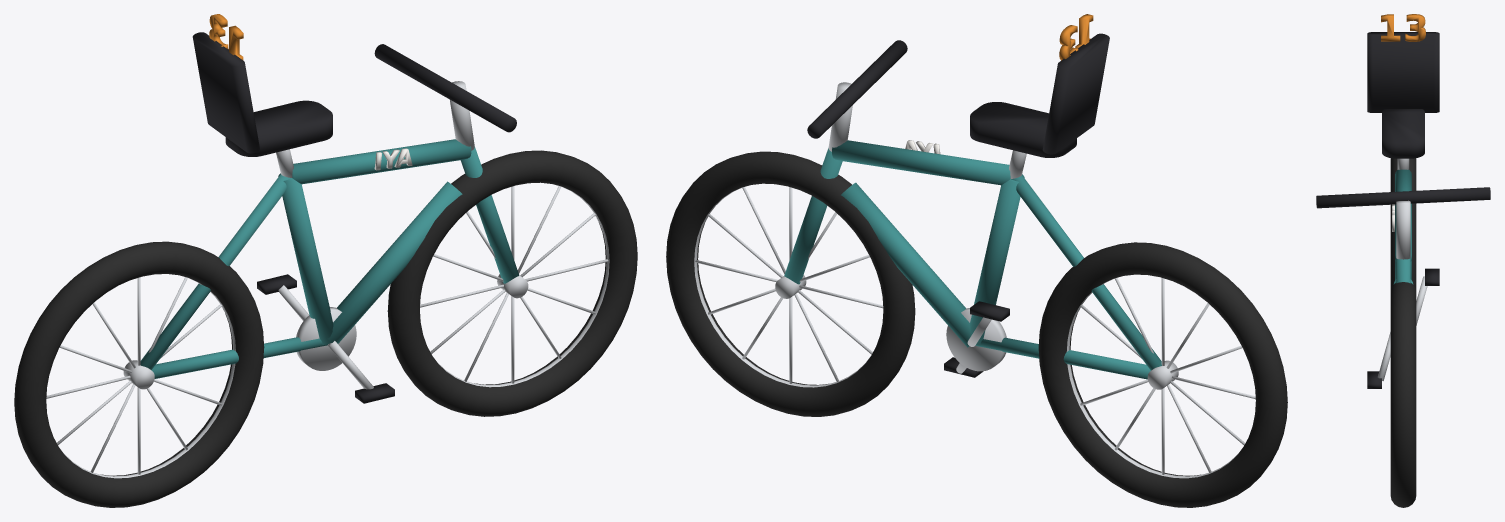
Rendered from bicycle.glb.
3 views of the same model, side by side, from view 1: azimuth 30°, elevation 25°; view 2: azimuth 150°, elevation 25°; view 3: azimuth 270°, elevation 25° (orthographic). The views are drawn at different scales.
Parts seen in each view (by area): view 1: part0, part30, part37, part1, part36, part43, part41; view 2: part0, part30, part37, part1, part36, part41; view 3: part37, part0, part36, part30, part41, part43.
Boxes of the visible parts, left/top/right/bottom form: part0: left=14, top=150, right=637, bottom=507; part30: left=140, top=139, right=519, bottom=378; part37: left=192, top=32, right=516, bottom=403; part1: left=46, top=186, right=609, bottom=478; part36: left=276, top=81, right=474, bottom=370; part43: left=278, top=285, right=373, bottom=389; part41: left=209, top=14, right=243, bottom=60; part0: left=666, top=151, right=1287, bottom=507; part30: left=784, top=140, right=1161, bottom=379; part37: left=807, top=33, right=1109, bottom=377; part1: left=694, top=187, right=1255, bottom=478; part36: left=828, top=82, right=1026, bottom=371; part41: left=1059, top=14, right=1093, bottom=60; part37: left=1316, top=32, right=1490, bottom=388; part0: left=1390, top=158, right=1416, bottom=507; part36: left=1396, top=158, right=1410, bottom=259; part30: left=1393, top=169, right=1413, bottom=284; part41: left=1381, top=14, right=1425, bottom=41; part43: left=1378, top=276, right=1427, bottom=381.
Bounding box in the file's own units: 1 × 0.7106 × 0.3041.
